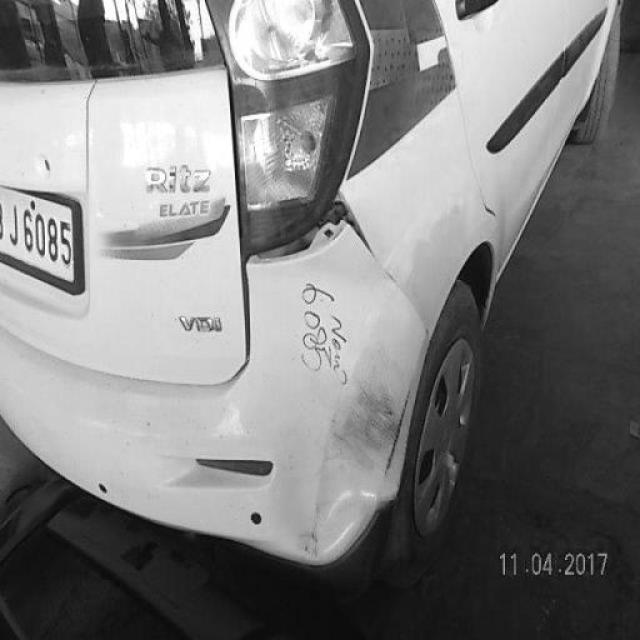car damage: (309, 345, 413, 562), (247, 184, 375, 279), (399, 196, 477, 335)
